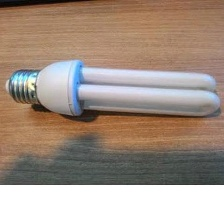light_bulb: (2, 56, 222, 123)
